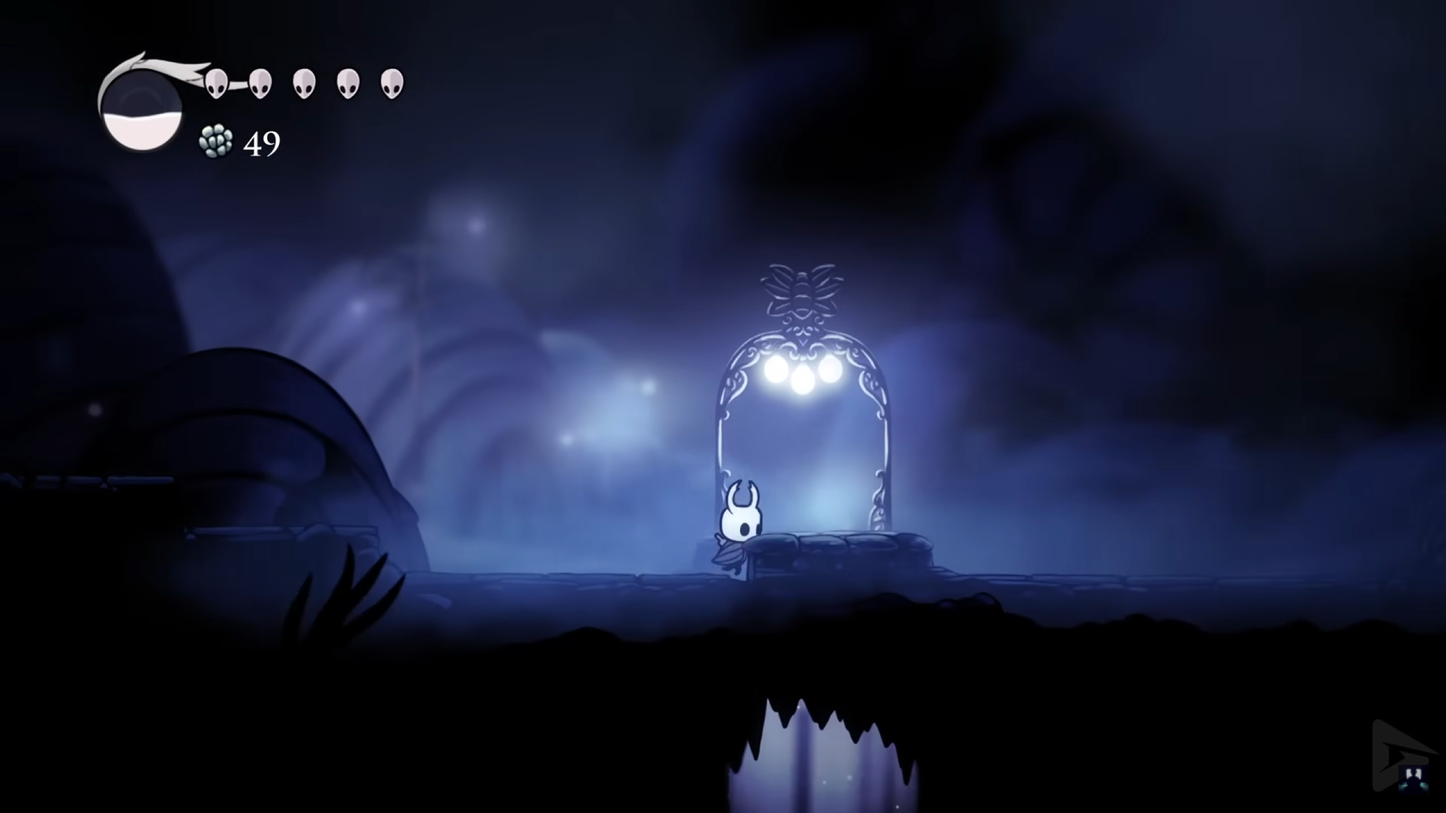HK: (714, 476, 767, 583)
